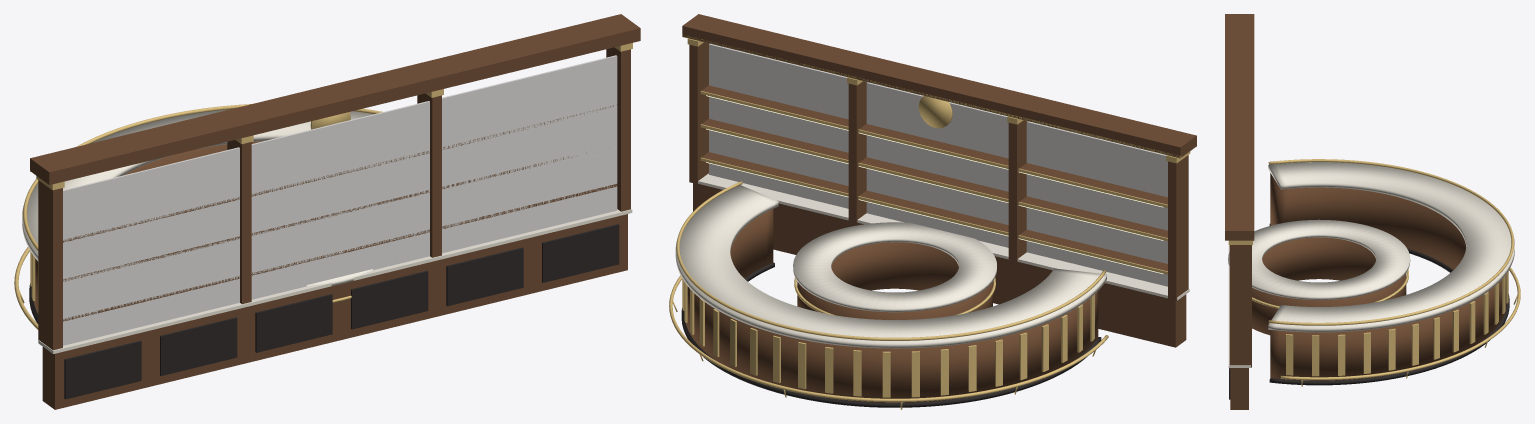
File: bar_monaco.glb
3 views of the same model, side by side, from view 1: azimuth 30°, elevation 25°; view 2: azimuth 150°, elevation 25°; view 3: azimuth 270°, elevation 25° (orthographic). The views are drawn at different scales.
Parts seen in each view (by area): view 1: bbMirror_mirror, bbCornice_wood, bbBase_wood, bbPilaster_wood, bbBaseTop_marbleL, bbPanel_dark.002, bbPanel_dark, bbPanel_dark.001, bbPanel_dark.003, bbPanel_dark.004, bbPanel_dark.005, counterTop_marbleL (+8 smaller); view 2: bbMirror_mirror, counterTop_marbleL, counterBody_wood, bbCornice_wood, islandTop_marbleL, bbBase_wood, islandBody_wood, bbBaseTop_marbleL, bbShelf_wood.002, bbShelf_wood, bbShelf_wood.001, bbPilaster_wood (+14 smaller); view 3: counterBody_wood, counterTop_marbleL, islandTop_marbleL, bbCornice_wood, islandBody_wood, bbPilaster_wood.003, handrail_brass, counterPlinth_dark, footrail_brass, bbBase_wood, rib_brass.001, rib_brass (+8 smaller).
Boxes of the visible parts, box(x1,y1,x2,y2) form: bbMirror_mirror: box(63, 55, 617, 345); bbCornice_wood: box(30, 14, 640, 184); bbBase_wood: box(42, 214, 627, 409); bbPilaster_wood: box(38, 180, 62, 350); bbBaseTop_marbleL: box(38, 209, 632, 353); bbPanel_dark.002: box(255, 294, 332, 352); bbPanel_dark: box(64, 340, 141, 399); bbPanel_dark.001: box(160, 317, 237, 375); bbPanel_dark.003: box(351, 271, 428, 329); bbPanel_dark.004: box(446, 247, 523, 306); bbPanel_dark.005: box(542, 224, 619, 282); counterTop_marbleL: box(22, 109, 373, 261); bbMirror_mirror: box(709, 44, 1167, 286); counterTop_marbleL: box(675, 185, 1106, 348); counterBody_wood: box(686, 209, 1098, 402); bbCornice_wood: box(682, 14, 1196, 157); islandTop_marbleL: box(793, 222, 996, 312); bbBase_wood: box(693, 183, 1186, 347); islandBody_wood: box(797, 242, 992, 319); bbBaseTop_marbleL: box(698, 173, 1189, 300); bbShelf_wood.002: box(701, 85, 1167, 204); bbShelf_wood: box(701, 152, 1167, 271); bbShelf_wood.001: box(701, 119, 1167, 237); bbPilaster_wood: box(1168, 155, 1188, 300); counterBody_wood: box(1270, 173, 1506, 380); counterTop_marbleL: box(1268, 162, 1514, 332); islandTop_marbleL: box(1228, 219, 1410, 299); bbCornice_wood: box(1225, 14, 1254, 240); islandBody_wood: box(1252, 237, 1406, 335); bbPilaster_wood.003: box(1229, 245, 1251, 367); handrail_brass: box(1268, 159, 1514, 325); counterPlinth_dark: box(1269, 224, 1509, 385); footrail_brass: box(1280, 267, 1520, 380); bbBase_wood: box(1230, 368, 1248, 409); rib_brass.001: box(1312, 335, 1319, 376); rib_brass: box(1286, 334, 1293, 375).
Size of the model in its own units: 9.7 by 3.8 by 5.58.
